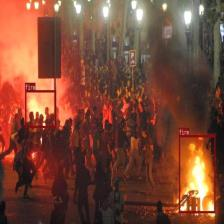fire: (178, 135, 216, 213), (25, 90, 56, 128)
